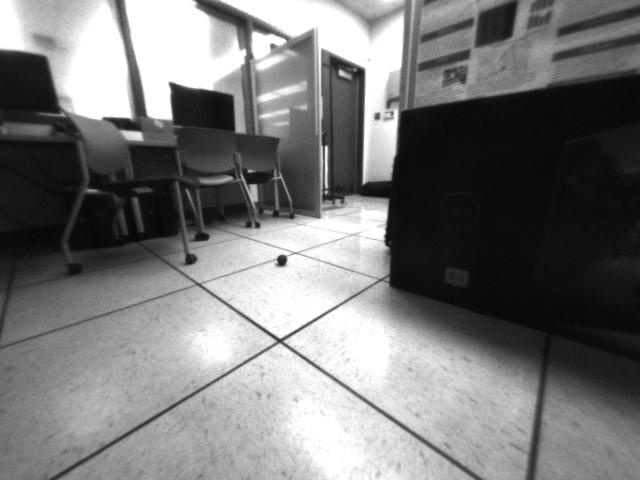dogtoy: (272, 251, 295, 270)
